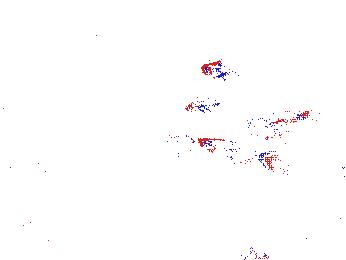X-ray fish: (138, 144, 167, 195), (158, 125, 196, 159)
red belly glassfish: (183, 97, 228, 115), (202, 63, 235, 78)
redtail glassfish: (199, 134, 276, 176), (276, 153, 344, 183), (249, 106, 311, 126), (249, 118, 283, 145)
